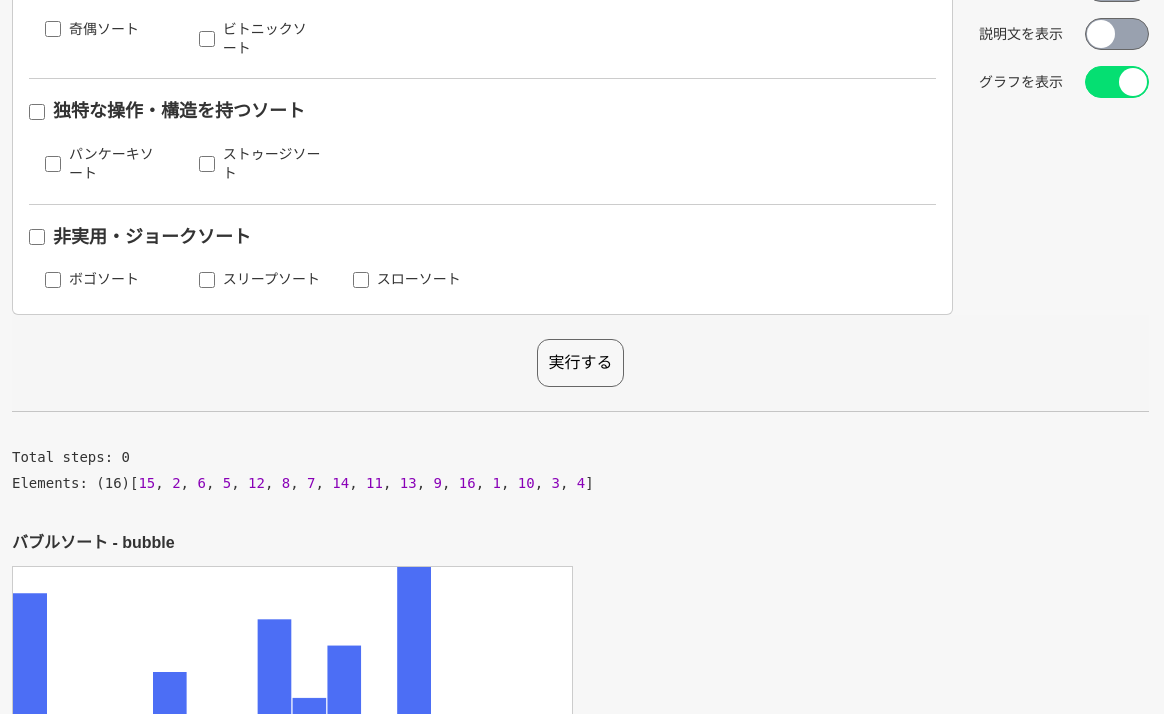
Test case: SortVisualizerContent › 実行中はボタンが「処理を強制終了する」になる
(page scrolled)
Click the button "実行する" at [580, 362], box [538, 338, 624, 386]
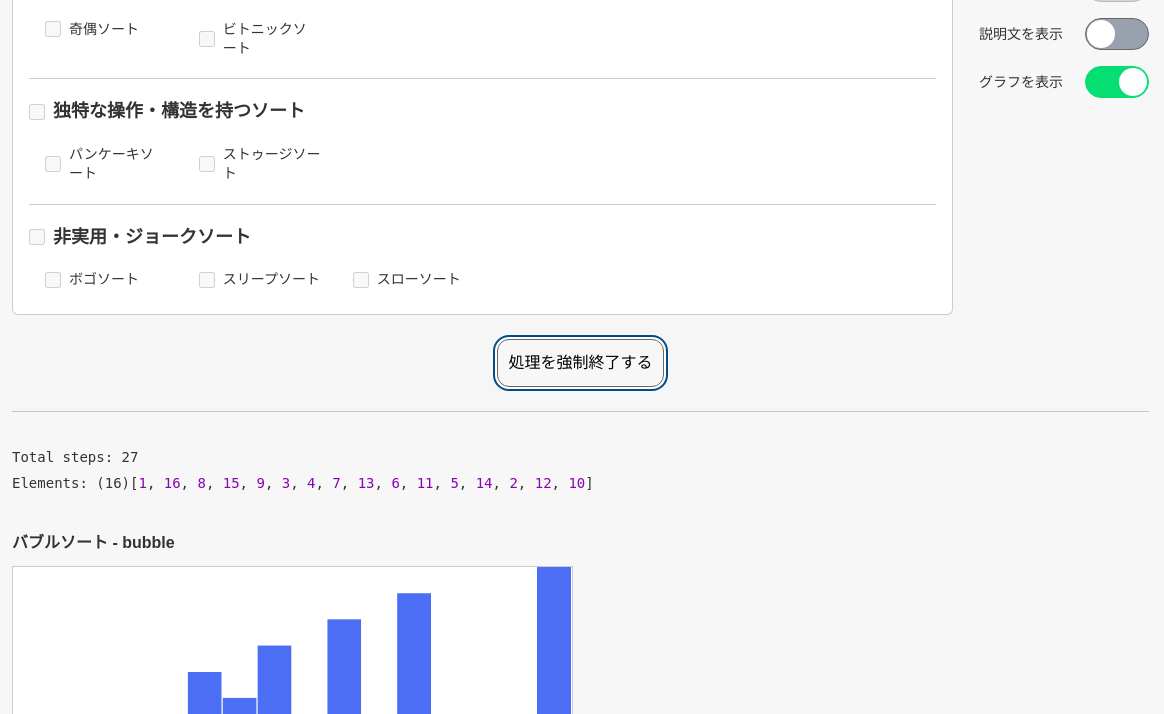
Expected: the button "処理を強制終了する" is shown, [498, 338, 664, 386]
